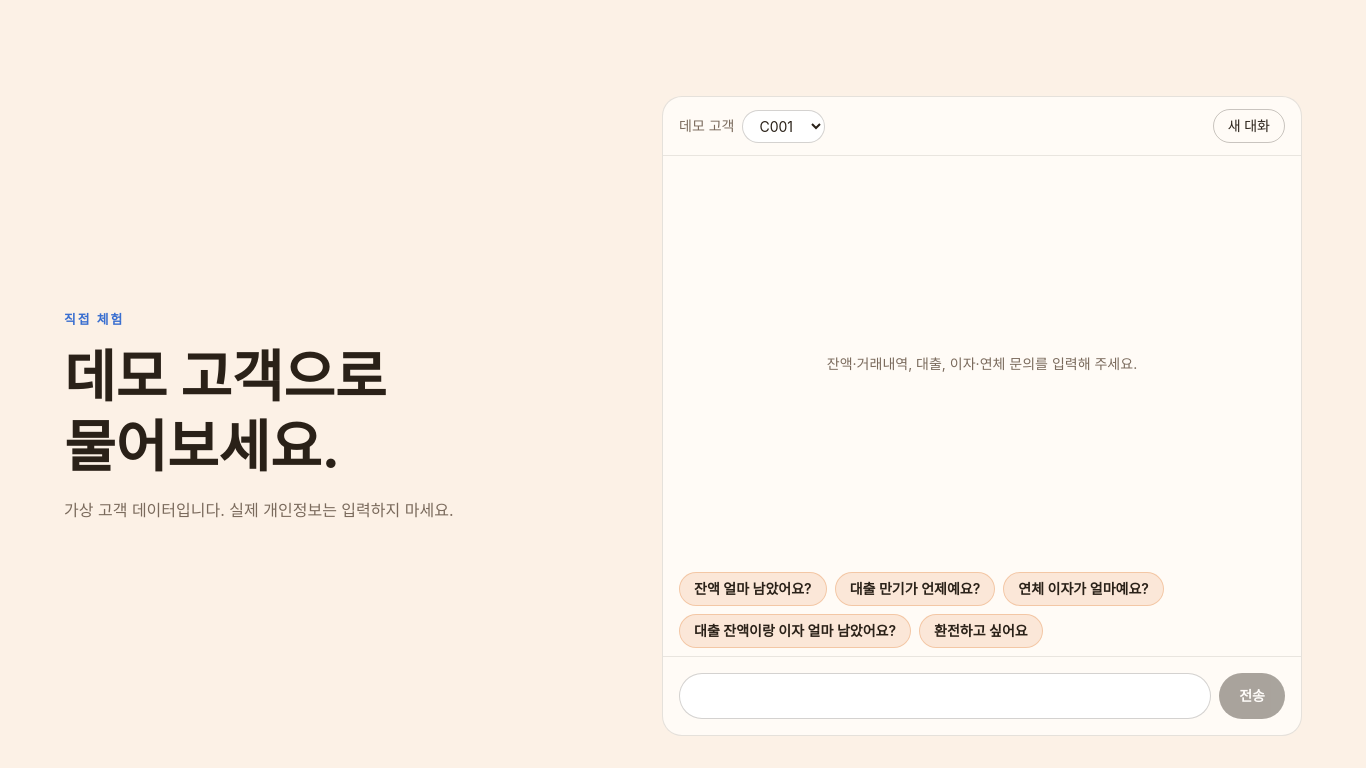
Page › clarify 선택지를 누르면 label을 고객 말풍선으로 추가하고 choice를 붙여 같은 세션으로 보낸다
In the field named "메시지": (945, 696) [679, 673, 1211, 719], type "대출 잔액이랑 이자 얼마 남았어요?"
Then press Enter
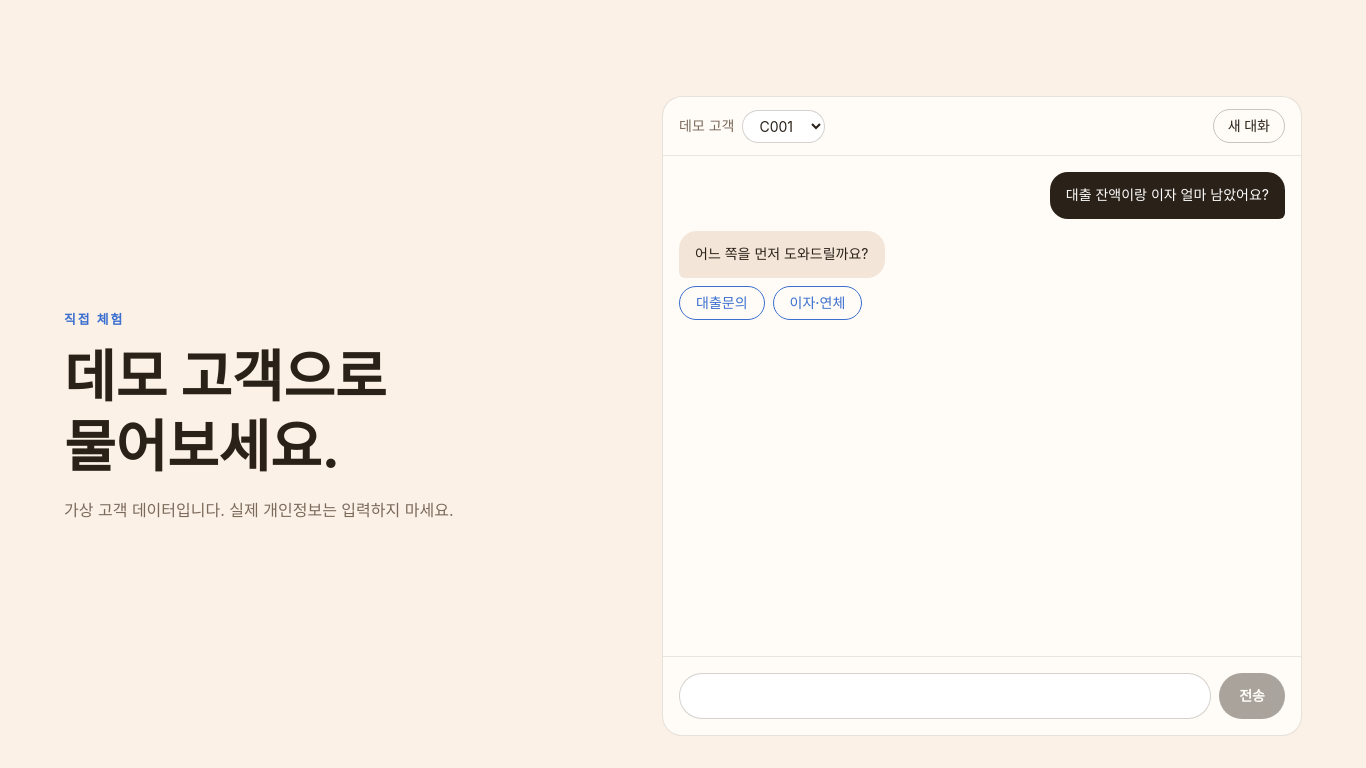
Click the button "이자·연체": (817, 302) [772, 286, 862, 320]
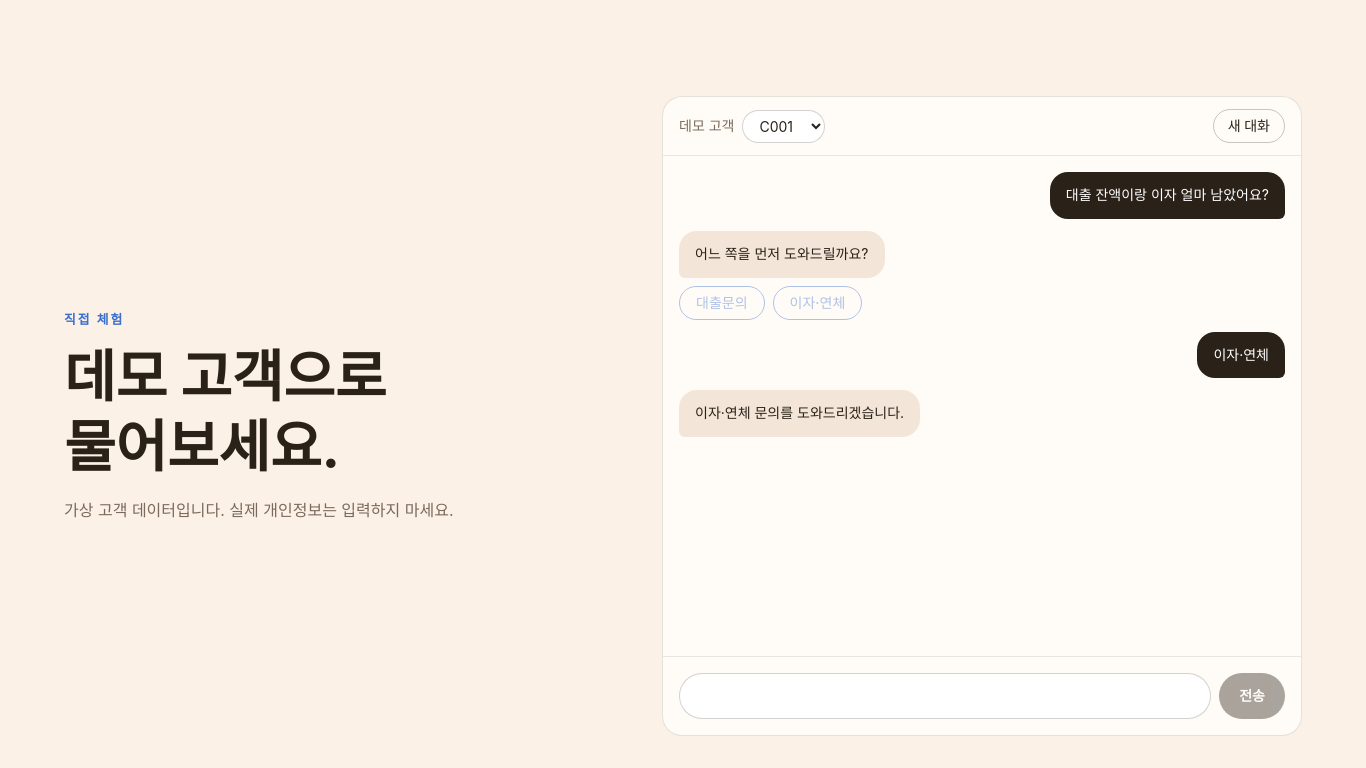
Check: the text "이자·연체 문의를 도와드리겠습니다." is shown, box [679, 390, 920, 437]
